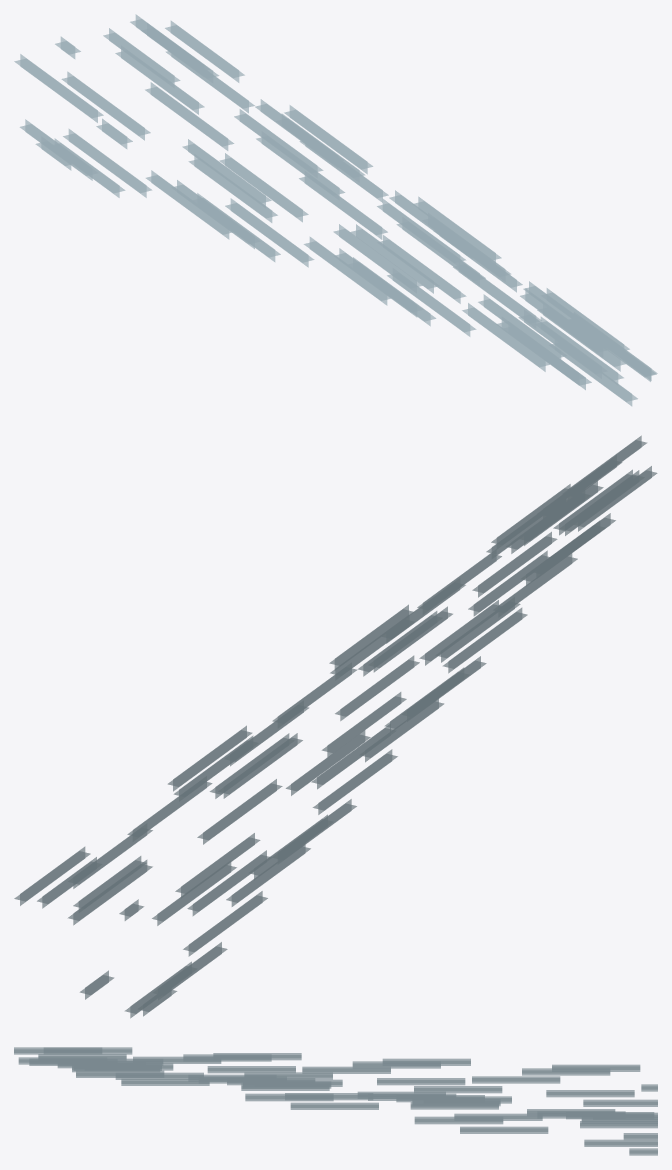
File: wp_water_305.obj
3 views of the same model, one above another, from view 1: azimuth 30°, elevation 25°; view 2: azimuth 150°, elevation 25°; view 3: azimuth 270°, elevation 25° (orthographic). The views are drawn at different scales.
Bounding box in the file's own units: 0.3175 × 0.3236 × 1.75.
Materials: 1 (1 with a texture image).
